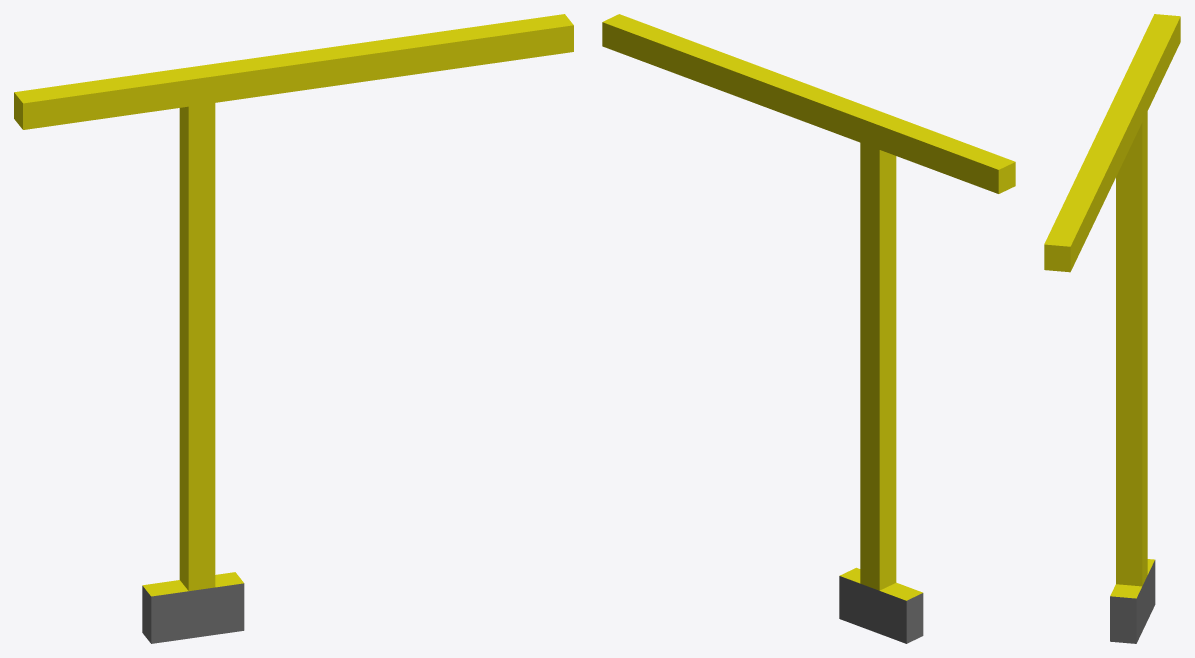
File: Crane.glb
3 renders of one model, left to right at view 1: azimuth 30°, elevation 25°; view 2: azimuth 150°, elevation 25°; view 3: azimuth 270°, elevation 25°, orthographic. The views are drawn at different scales.
Visible parts, largest first — view 1: Cube; view 2: Cube; view 3: Cube.
Boxes of the visible parts, <box> form: Cube: <box>14,14,573,643</box>; Cube: <box>602,14,1015,643</box>; Cube: <box>1044,14,1180,643</box>.
Size of the model in its own units: 6.3 by 6.75 by 1.56.
